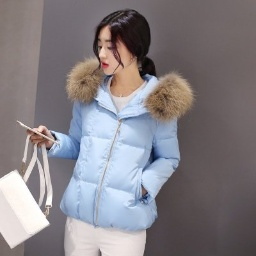face: (92, 9, 161, 78)
